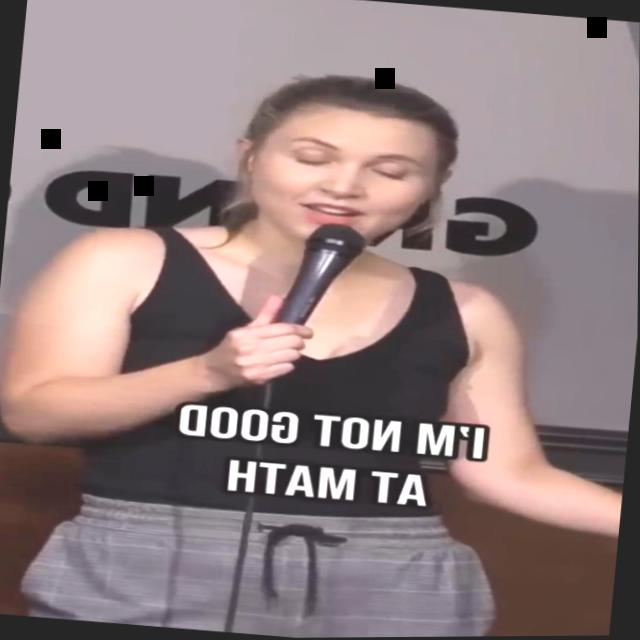NO-Mask: (231, 96, 461, 262)
